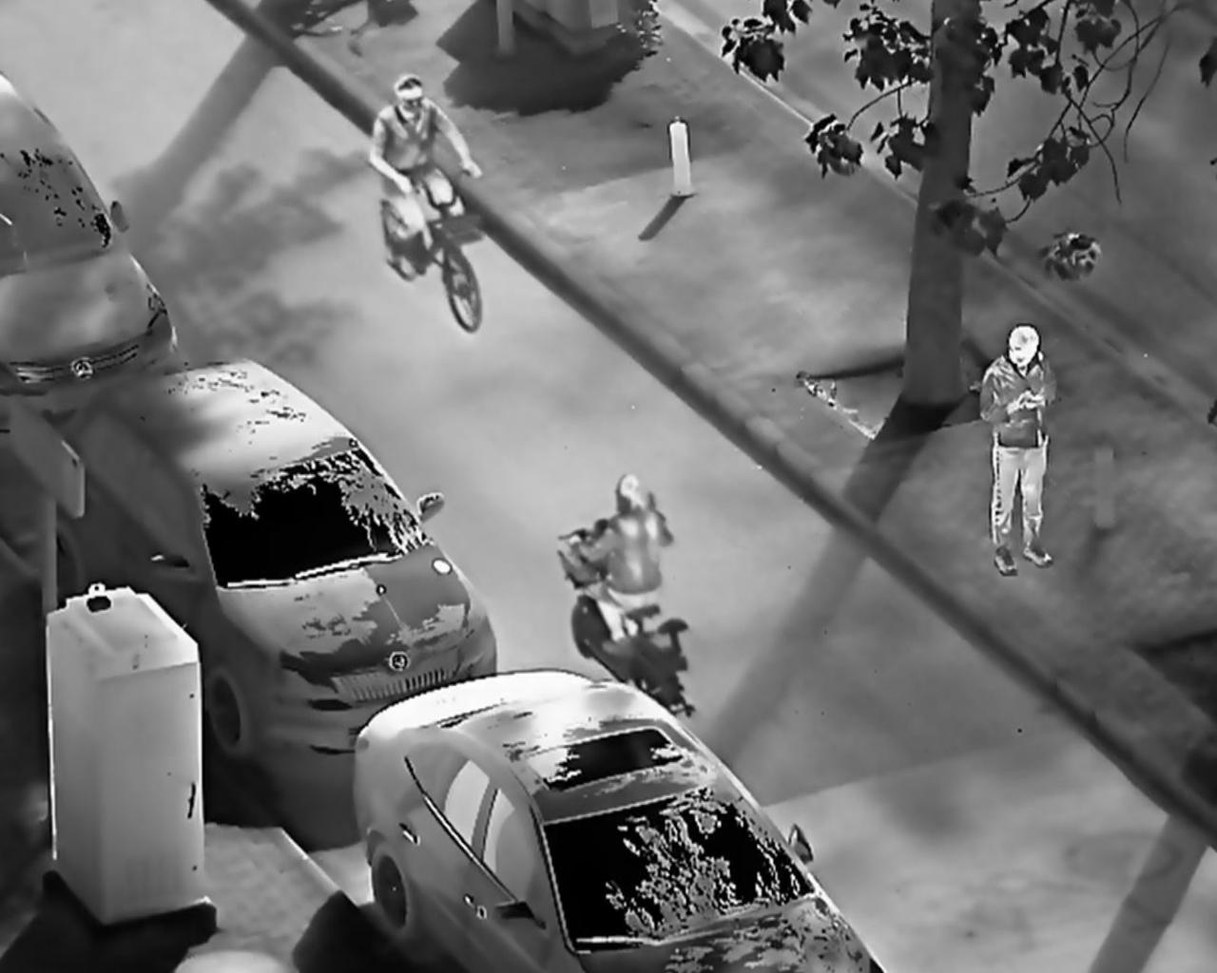person: (366, 72, 489, 284), (976, 323, 1061, 583), (567, 474, 679, 648)
